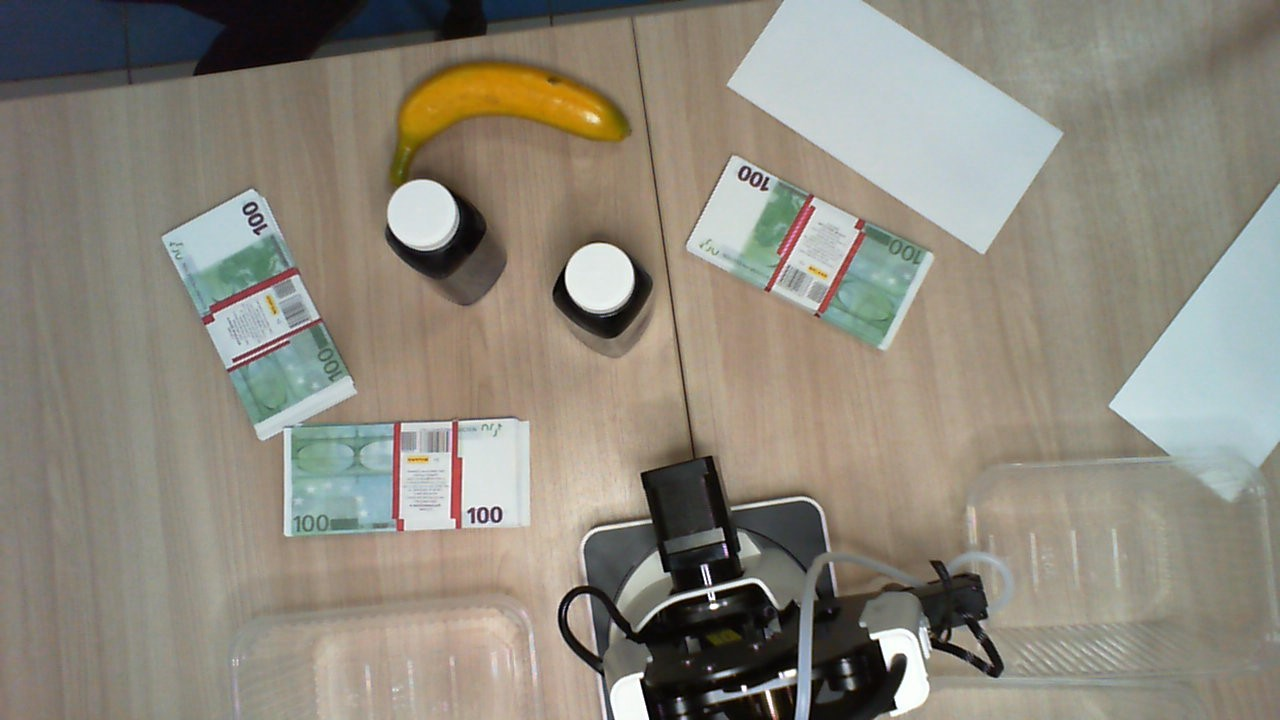banana: (386, 58, 635, 187)
bottle: (553, 239, 653, 336), (383, 179, 481, 275)
convert: (731, 1, 1064, 254), (1110, 182, 1278, 505)
money: (686, 153, 932, 353), (162, 187, 349, 441), (283, 417, 533, 540)
